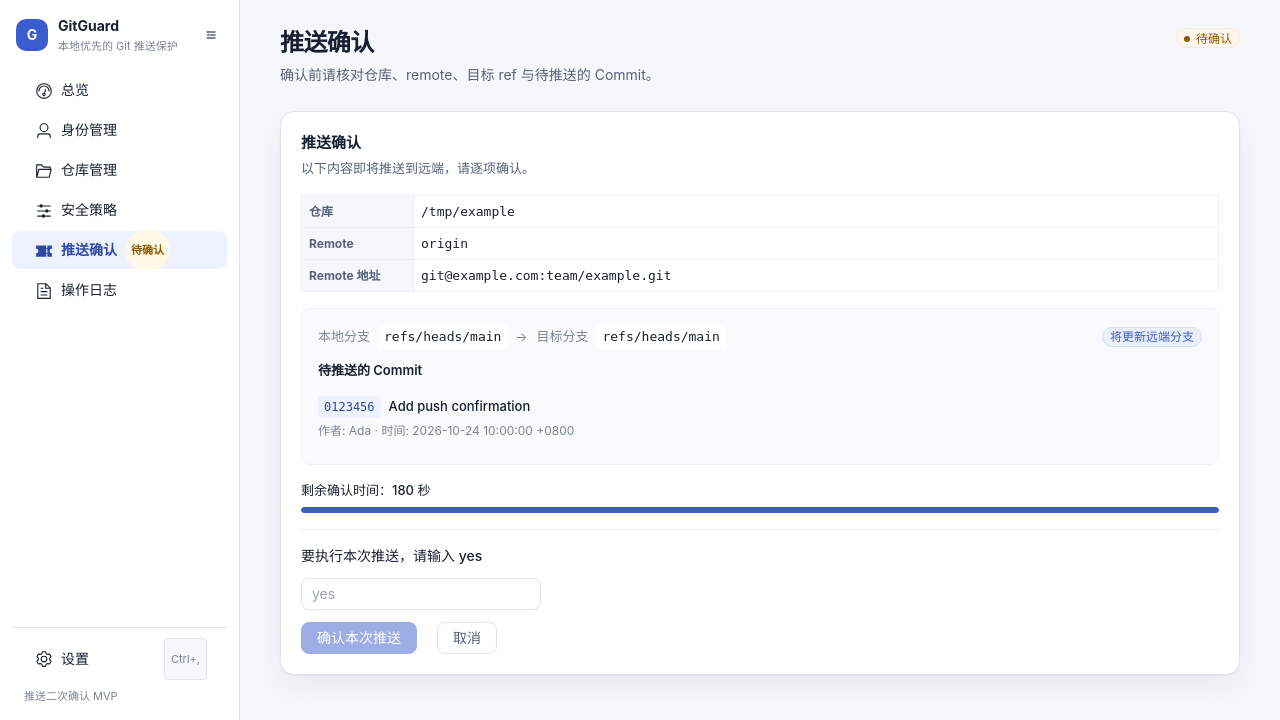
Test: App › requires the user to type yes before confirming a push
Check: the 2nd heading "推送确认" is shown, box [301,133,361,152]
Check: the button "确认本次推送" is disabled, box [301,622,417,654]
In the field with id "confirmation-answer": (421, 594) [312,579,530,609], type "y"
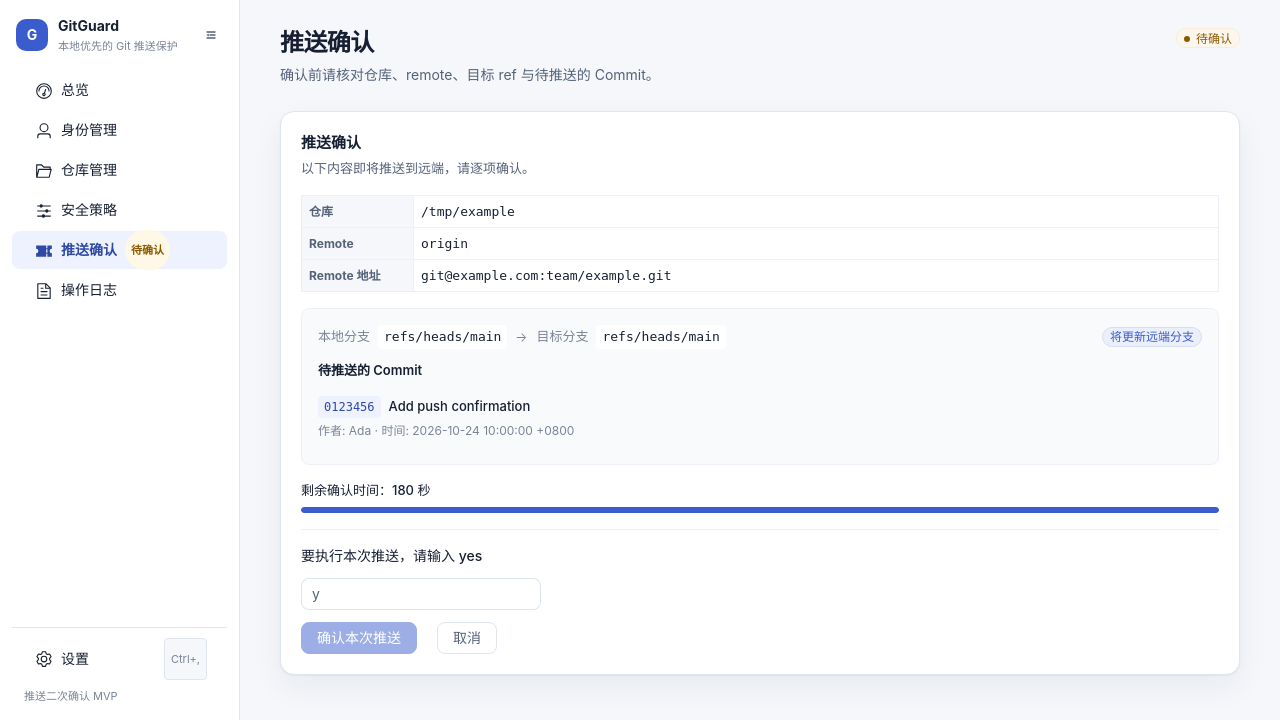
Check: the button "确认本次推送" is disabled, box [301,622,417,654]
Replace the text in the field with id "confirmation-answer" with "yes": (421, 594) [312,579,530,609]
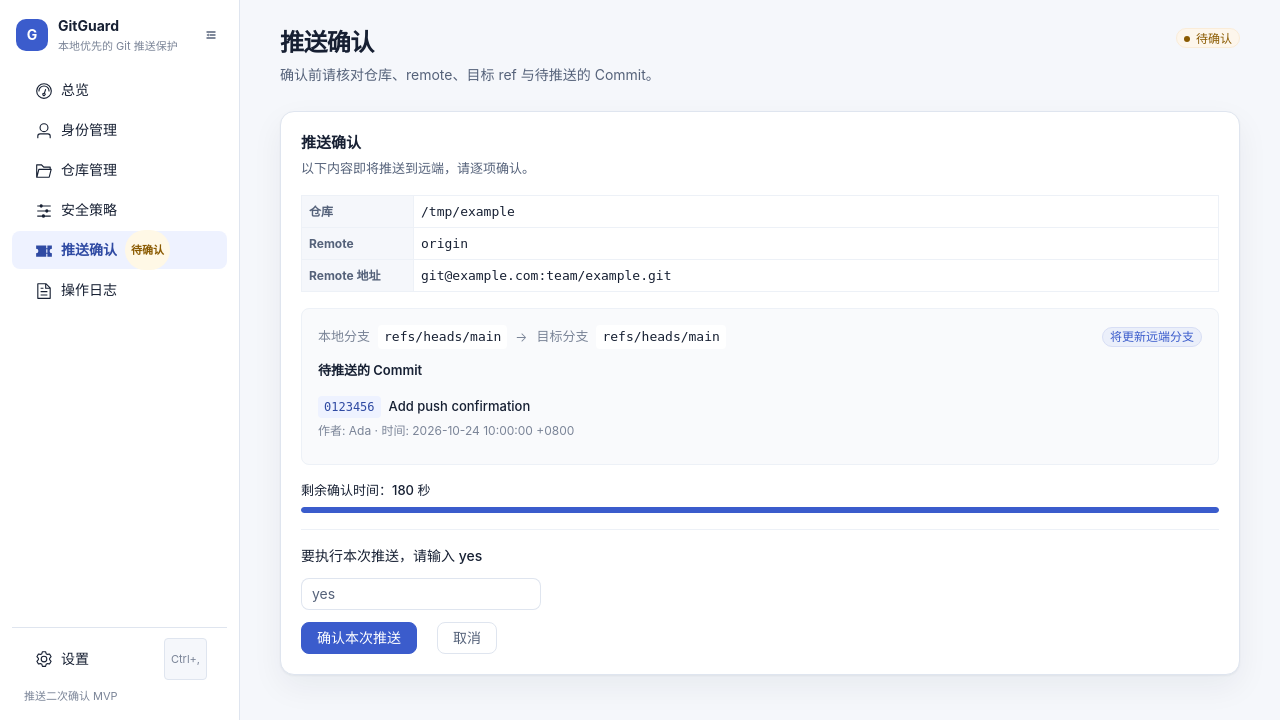
Check: the button "确认本次推送" is enabled, box [301,622,417,654]
Submit the form, box [301,529,1219,654]
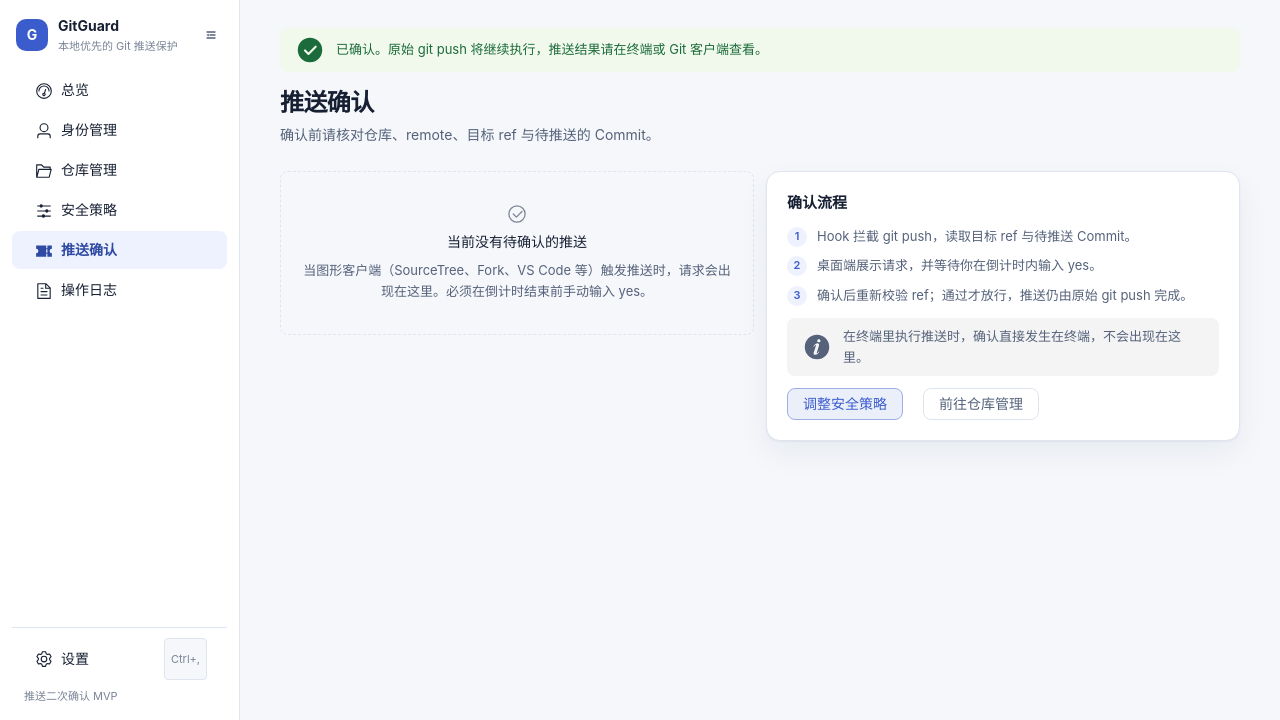
Check: the text "已确认。原始 git push 将继续执行，推送结果请在终端或 Git 客户端查看。" is shown, box [336,39,768,60]
